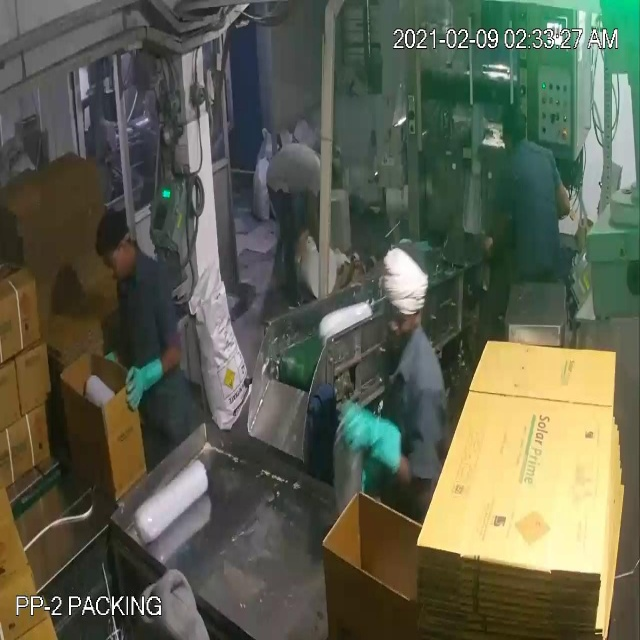Guantes: (320, 380, 407, 497), (114, 338, 175, 422)
